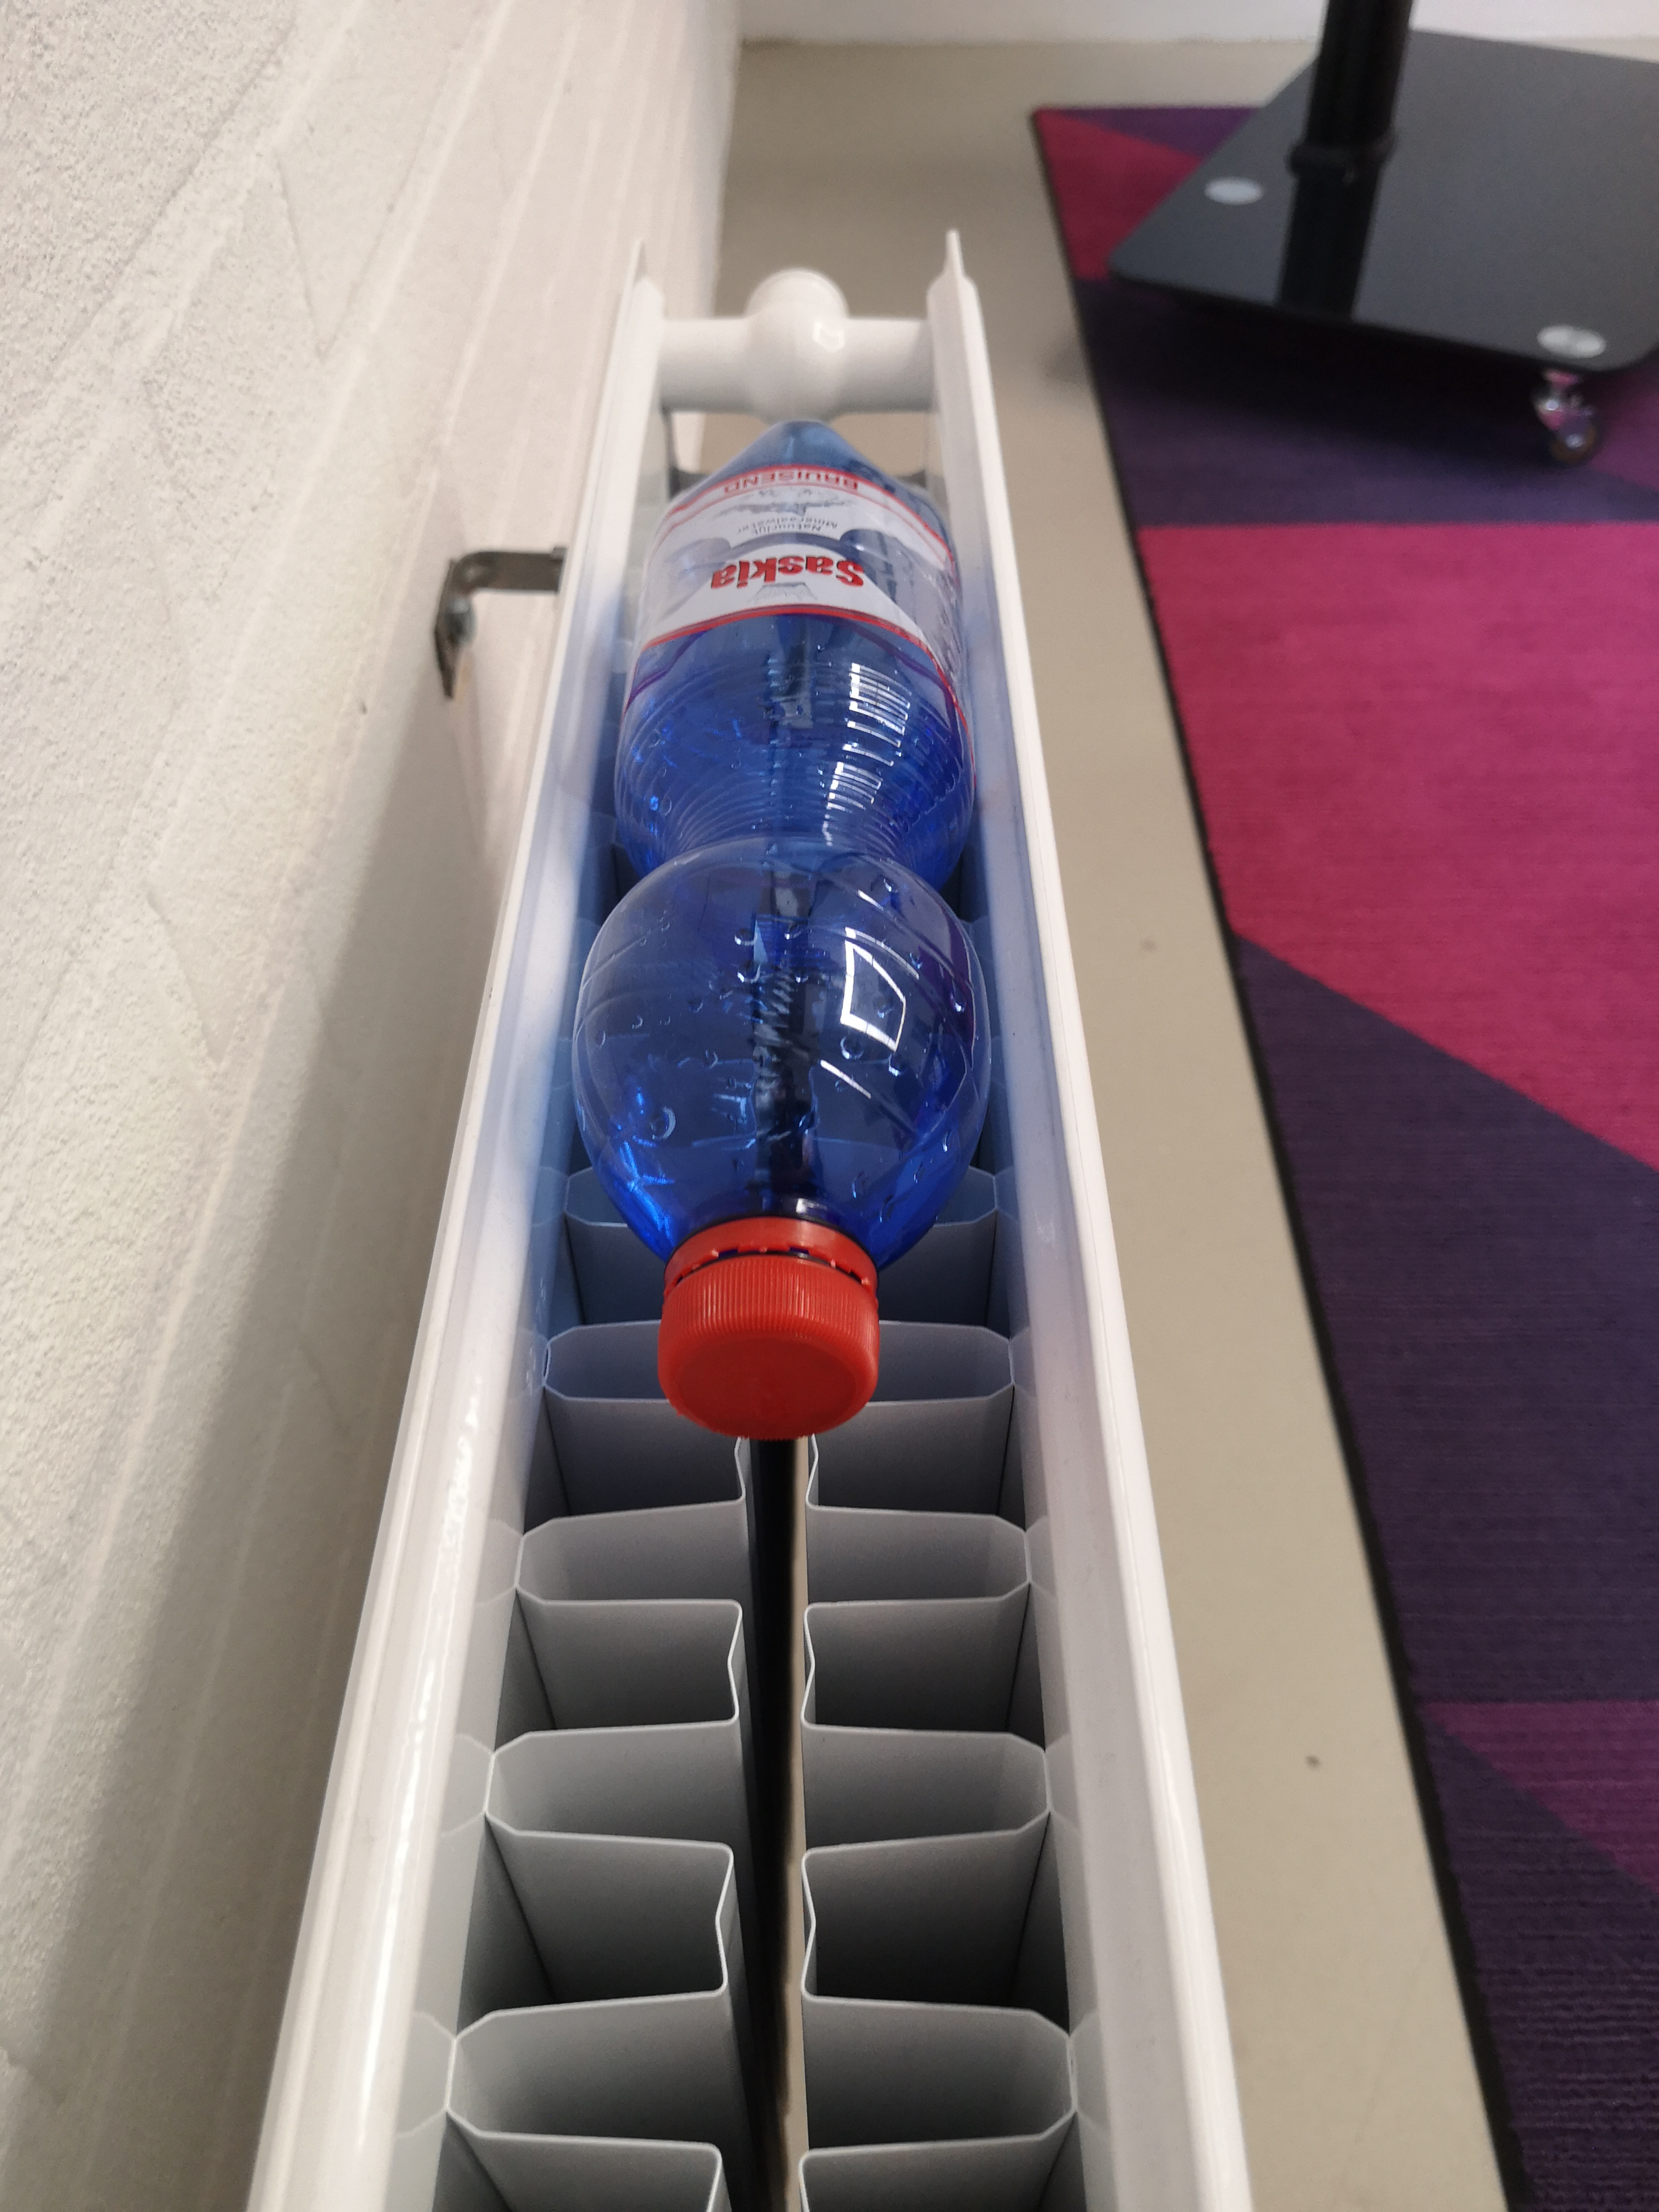plastic_bottle: (561, 394, 1002, 1468)
